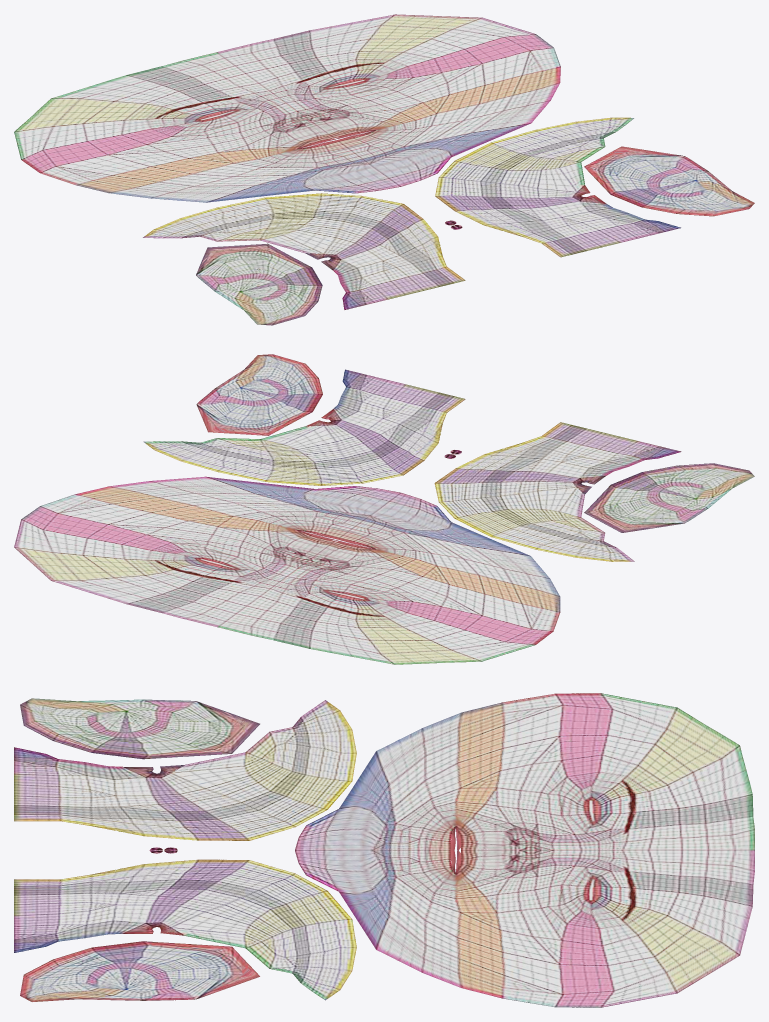
Rendered from WookieeFaceEars2SLUV.dae.
3 renders of one model, top to bottom at view 1: azimuth 30°, elevation 25°; view 2: azimuth 150°, elevation 25°; view 3: azimuth 270°, elevation 25°, orthographic. The views are drawn at different scales.
Parts seen in each view (by area): view 1: Face, Hairbase, Ear Right, Ear Left; view 2: Face, Hairbase, Ear Left, Ear Right; view 3: Face, Hairbase, Ear Right, Ear Left.
Boxes of the visible parts, <box> form: Face: <box>14,14,680,309</box>; Hairbase: <box>143,117,633,258</box>; Ear Right: <box>572,146,754,216</box>; Ear Left: <box>196,243,341,325</box>; Face: <box>14,369,681,664</box>; Hairbase: <box>143,420,634,561</box>; Ear Left: <box>572,463,754,532</box>; Ear Right: <box>196,354,341,435</box>; Face: <box>14,693,754,1007</box>; Hairbase: <box>117,700,356,1000</box>; Ear Right: <box>20,922,259,1001</box>; Ear Left: <box>20,698,259,778</box>.
Size of the model in its own units: 0.996 by 0.992 by 0.
Materials: 2 (2 with a texture image).
